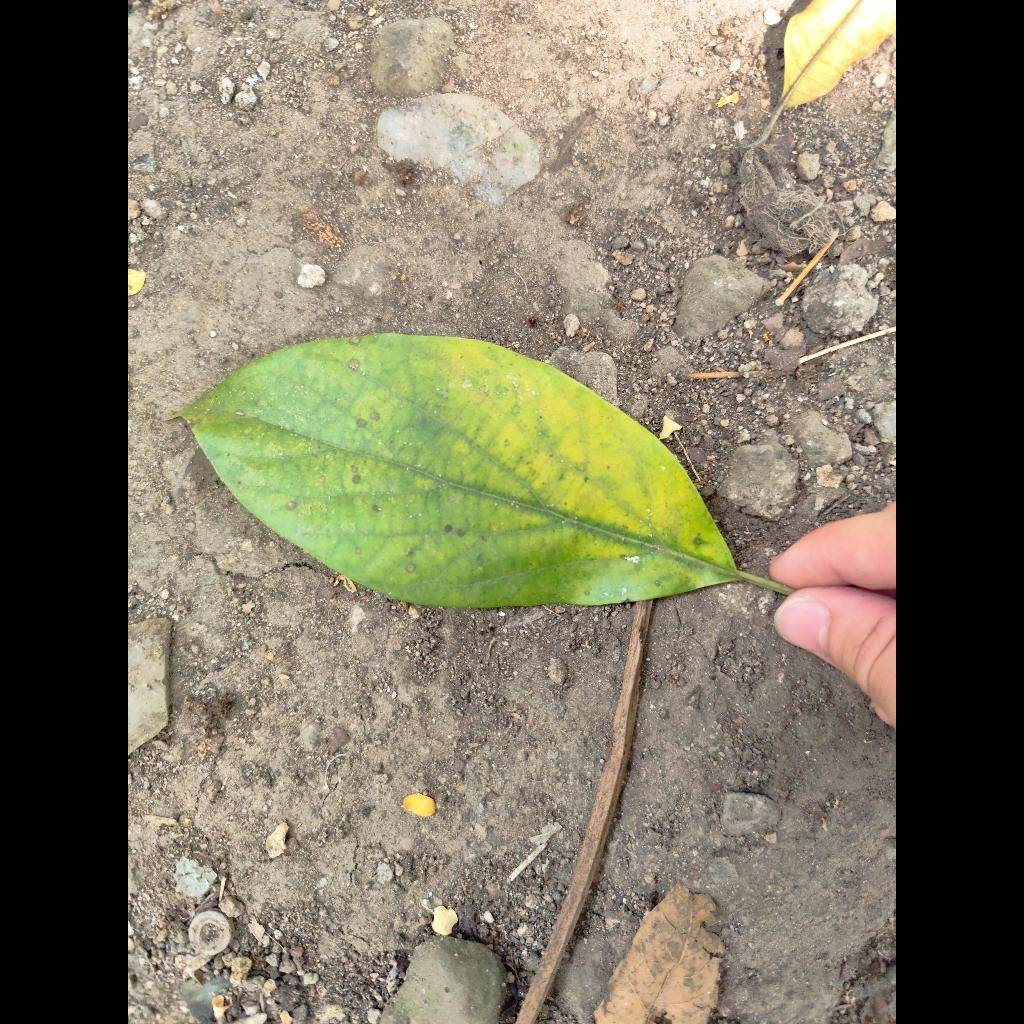deficiencia_nutricional: (176, 334, 741, 608)
